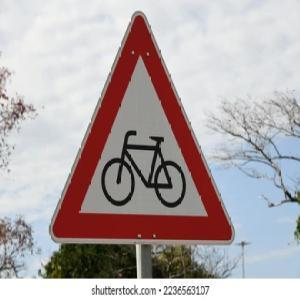CYCLE CROSSING: (49, 7, 237, 249)
